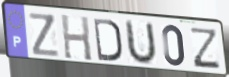0: (160, 23, 186, 68)
D: (92, 17, 124, 64)
H: (60, 13, 94, 63)
U: (125, 19, 158, 66)
Z: (27, 11, 62, 59), (190, 26, 221, 70)
